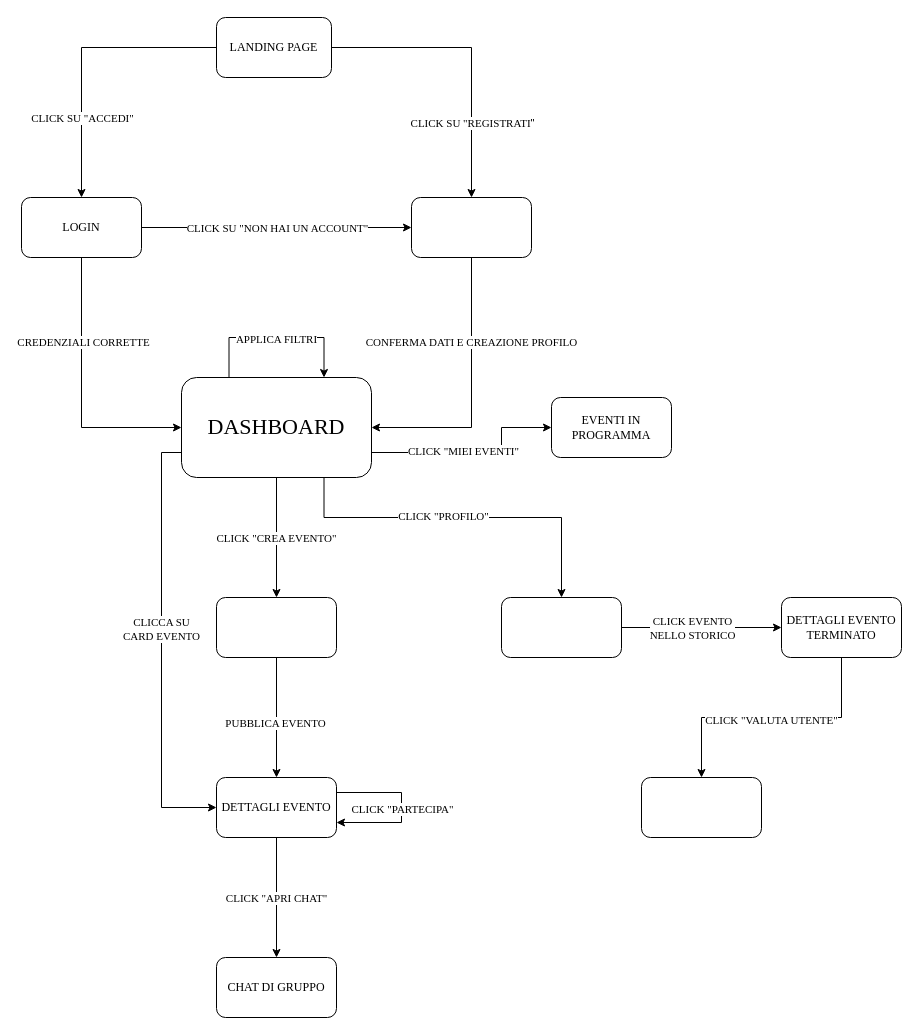
Some shapes in this 919 by 1035 pixel diagram are drawn without their labels. Each missing label, with the centre of its shape:
"AREA PERSONALE" belongs at [561,627].
"CREA EVENTO" belongs at [276,627].
"REGISTRAZIONE" belongs at [471,227].
"SCHERMATA FEEDBACK" belongs at [701,807].
